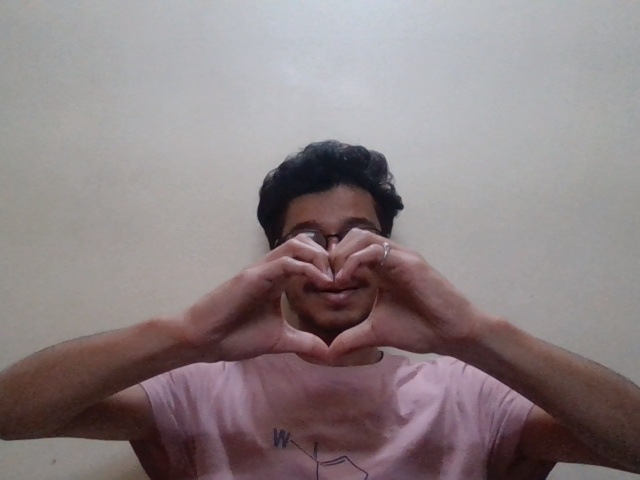silent-voice: (216, 220, 446, 391)
